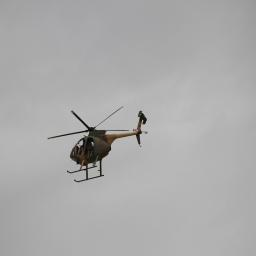helicopter: (48, 100, 152, 185)
